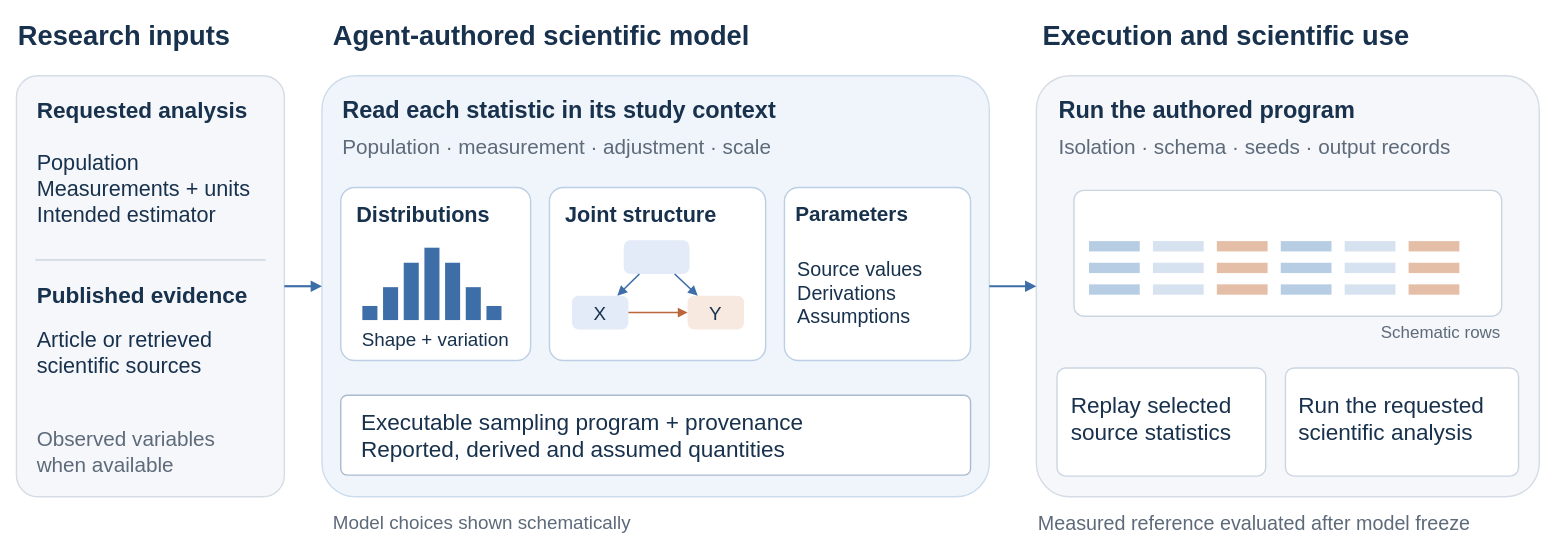
Some shapes in this 1560 by 554 pixel diagram are drawn without their labels. Each missing label, with the box of its shape:
Age: (623, 240, 689, 274)
Virtual individual measurements: (1073, 189, 1502, 317)
